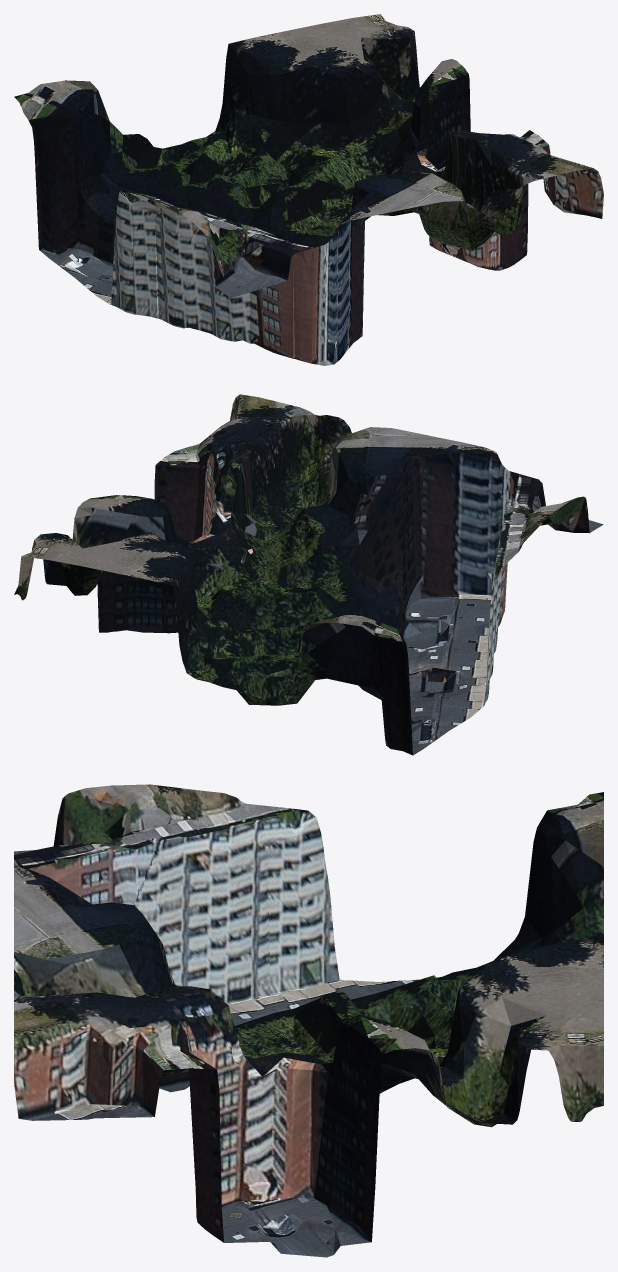
The model's file is map_15_8176_13788.dae.
The picture shows the model from 3 angles, top to bottom: view 1: azimuth 30°, elevation 25°; view 2: azimuth 150°, elevation 25°; view 3: azimuth 270°, elevation 25°; orthographic projection. The views are drawn at different scales.
Parts seen in each view (by area): view 1: Ter0; view 2: Ter0; view 3: Ter0.
Part boxes in pixels (left/top/right/bottom): Ter0: left=14, top=14, right=603, bottom=365; Ter0: left=14, top=394, right=603, bottom=755; Ter0: left=14, top=784, right=603, bottom=1257.
Size of the model in its own units: 63.88 by 63.88 by 26.83.
4 materials, 4 textured.
